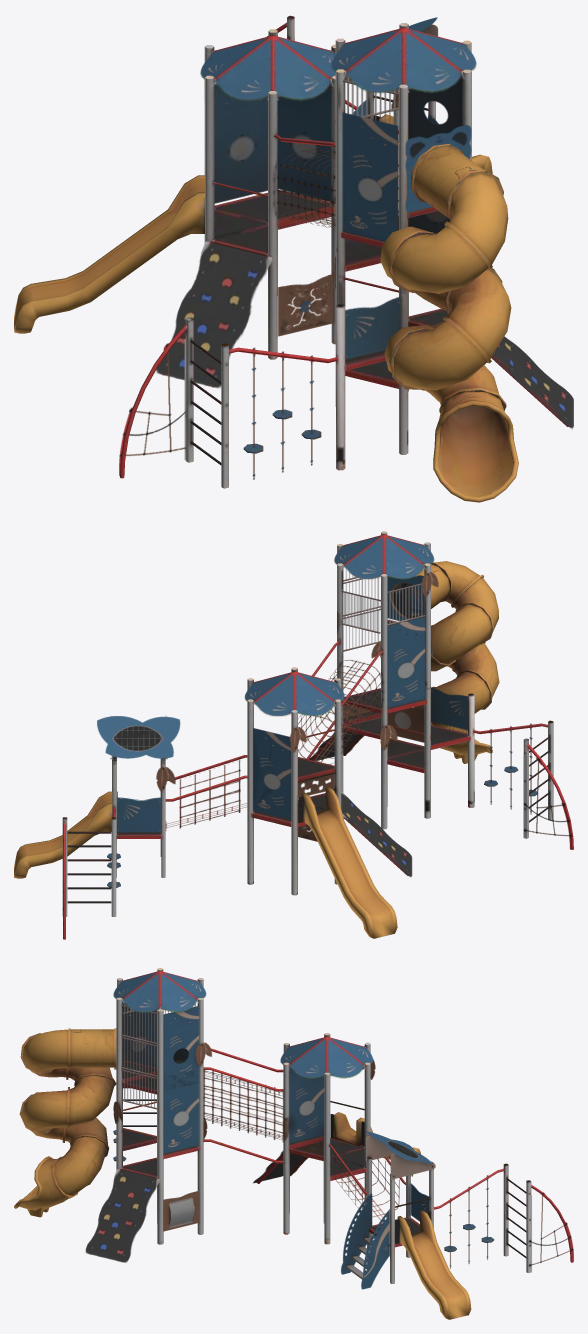
File: playground.glb
3 views of the same model, one above another, from view 1: azimuth 30°, elevation 25°; view 2: azimuth 150°, elevation 25°; view 3: azimuth 270°, elevation 25° (orthographic). The views are drawn at different scales.
Parts seen in each view (by area): view 1: Cube.001_KIDS_PLAYGROUND_0, Cube.002_KIDS_PLAYGROUND_TRANSPARENT_0; view 2: Cube.001_KIDS_PLAYGROUND_0, Cube.002_KIDS_PLAYGROUND_TRANSPARENT_0; view 3: Cube.001_KIDS_PLAYGROUND_0, Cube.002_KIDS_PLAYGROUND_TRANSPARENT_0.
Boxes of the visible parts, <box> form: Cube.001_KIDS_PLAYGROUND_0: <box>14,15,568,502</box>; Cube.002_KIDS_PLAYGROUND_TRANSPARENT_0: <box>119,17,573,479</box>; Cube.001_KIDS_PLAYGROUND_0: <box>14,531,573,939</box>; Cube.002_KIDS_PLAYGROUND_TRANSPARENT_0: <box>97,534,572,877</box>; Cube.001_KIDS_PLAYGROUND_0: <box>14,968,571,1319</box>; Cube.002_KIDS_PLAYGROUND_TRANSPARENT_0: <box>85,971,573,1289</box>.
Bounding box in the file's own units: 9.17 × 5.85 × 11.75.
2 materials, 2 textured.
